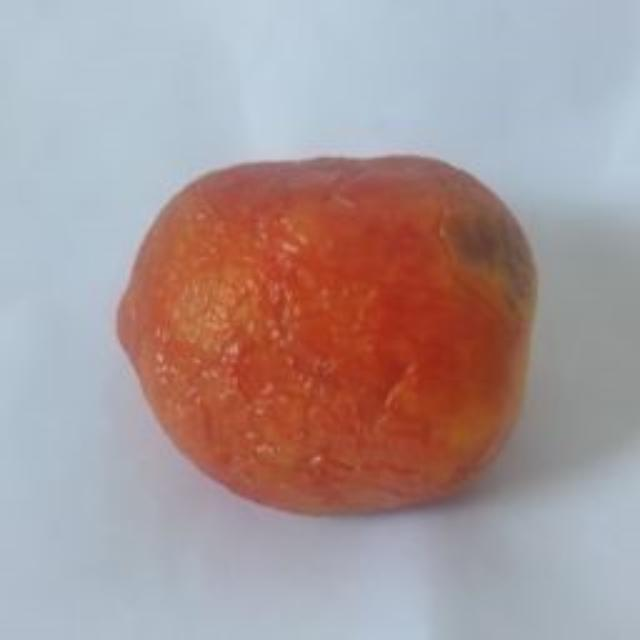defect: (115, 154, 545, 522)
